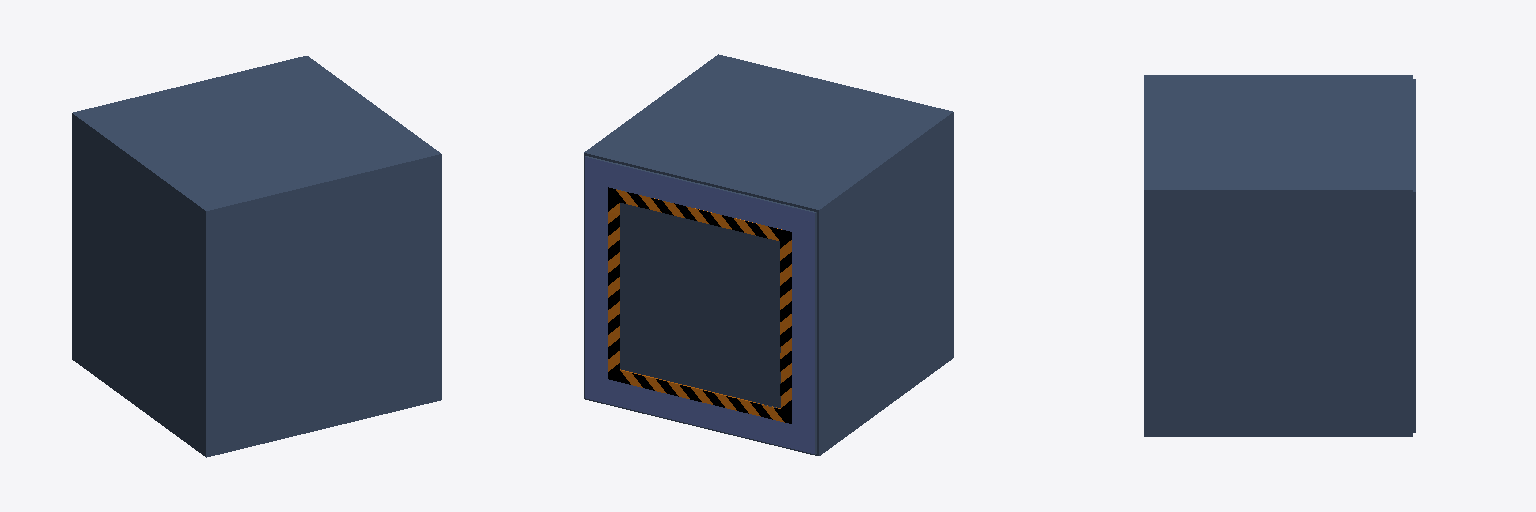
The model's file is 地面禁止.obj.
3 renders of one model, left to right at view 1: azimuth 30°, elevation 25°; view 2: azimuth 150°, elevation 25°; view 3: azimuth 270°, elevation 25°, orthographic.
Parts seen in each view (by area): view 1: 地面禁止; view 2: 地面禁止; view 3: 地面禁止.
Part boxes in pixels (left/top/right/bottom): 地面禁止: left=72, top=56, right=441, bottom=457; 地面禁止: left=584, top=54, right=953, bottom=455; 地面禁止: left=1144, top=75, right=1415, bottom=436.
Bounding box in the file's own units: 1 × 1 × 1.